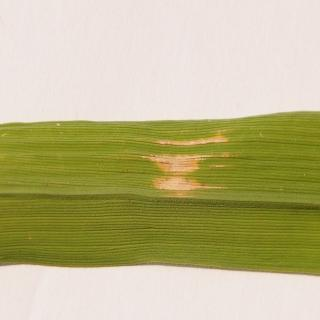Hawar-Daun: (135, 123, 234, 199)
